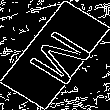M_SE: (17, 21, 93, 89)
